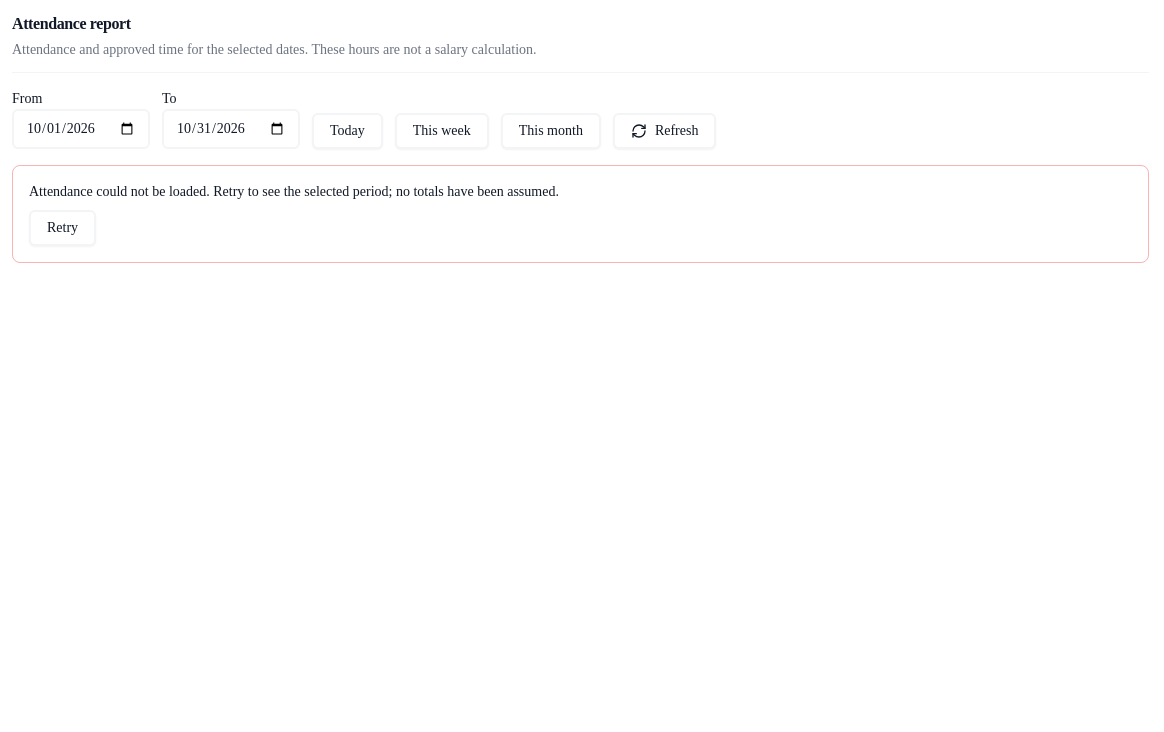
Test: AttendanceRegister › shows failure instead of empty results and supports retry
Expected: the message shows "could not be loaded", [29,184,559,199]
Click the button "Retry": click(63, 228) [29,210,96,246]
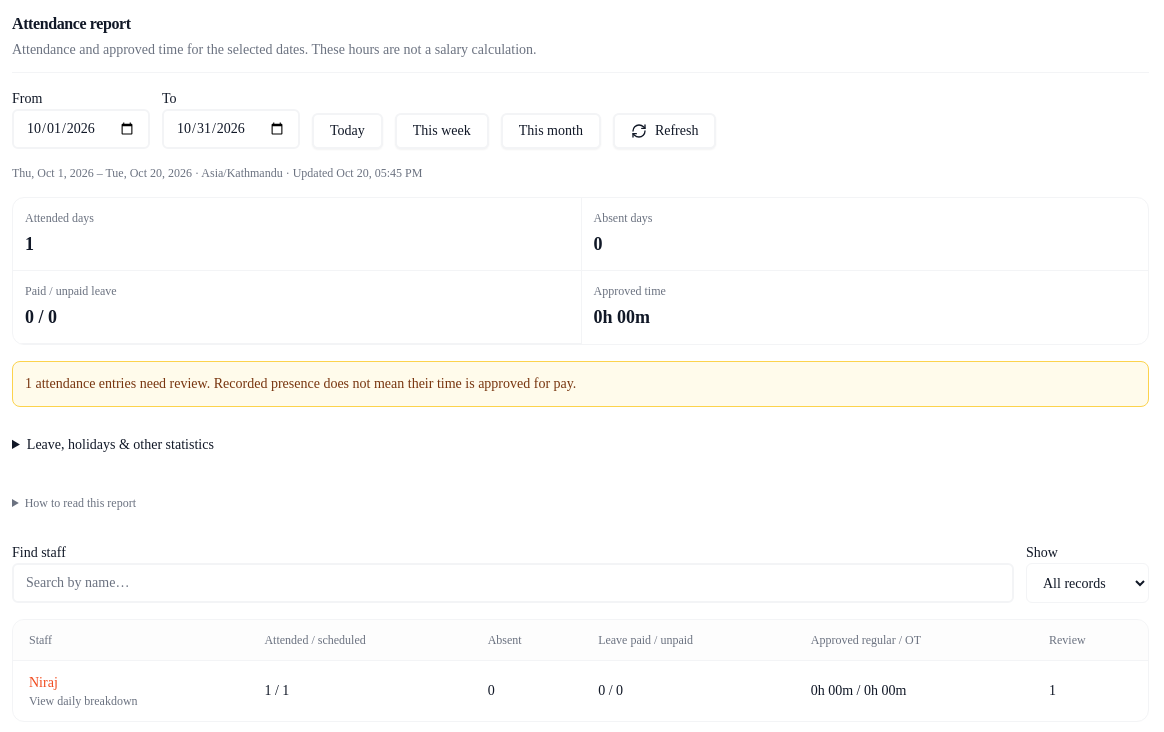
Expected: the button "Niraj" is shown, [29,673,58,693]
